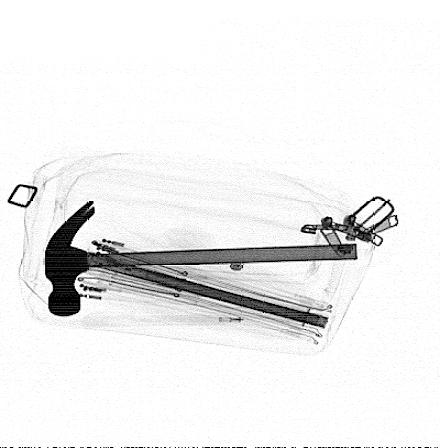Hammer: (43, 199, 358, 317)
